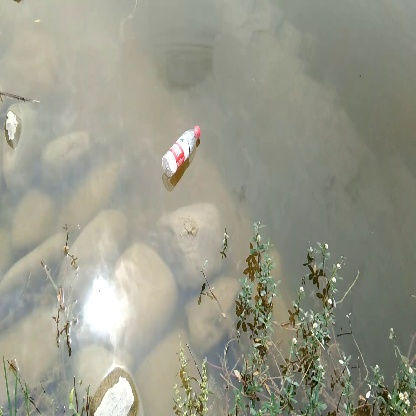bottle: (158, 125, 203, 179)
